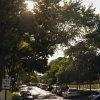Tree: (54, 39, 98, 84)
